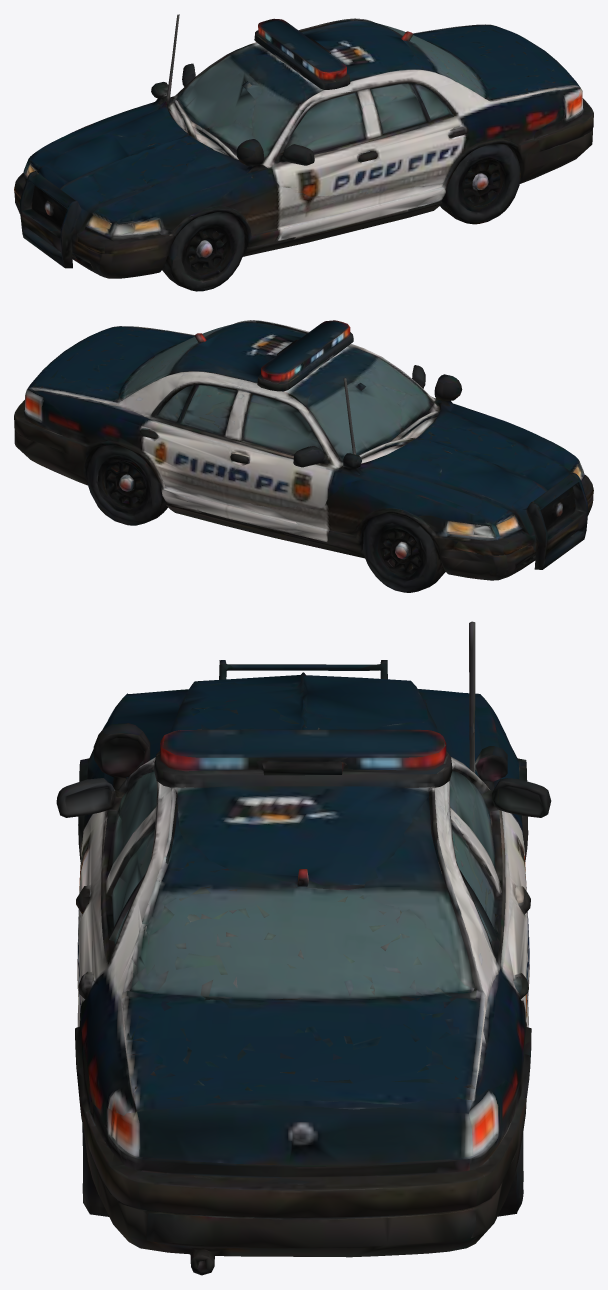
Rendered from cop_basic.glb.
3 views of the same model, one above another, from view 1: azimuth 30°, elevation 25°; view 2: azimuth 150°, elevation 25°; view 3: azimuth 270°, elevation 25° (orthographic). The views are drawn at different scales.
Visible parts, largest first — view 1: texture_pbr_v128; view 2: texture_pbr_v128; view 3: texture_pbr_v128.
Part boxes in pixels (x1,y1,x2,y2): texture_pbr_v128: (14,14,593,291); texture_pbr_v128: (14,320,593,592); texture_pbr_v128: (56,621,551,1275).
Bounding box in the file's own units: 1.17 × 0.4094 × 0.4796.
1 material, 1 textured.
